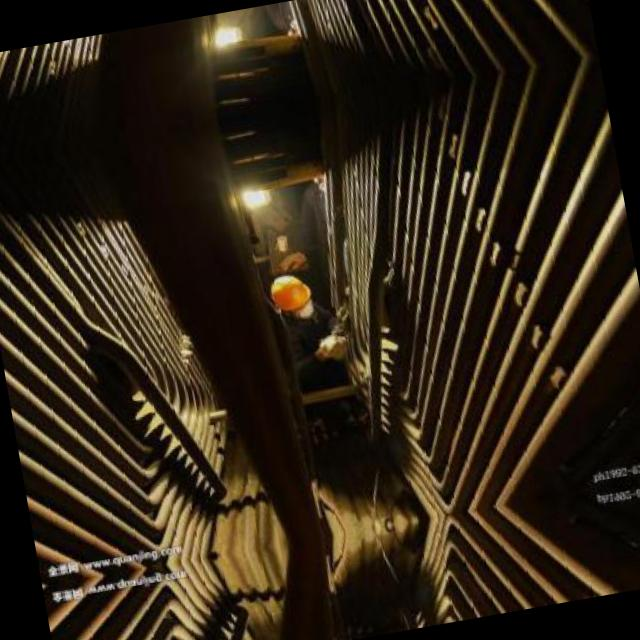helmet: (266, 268, 318, 322)
